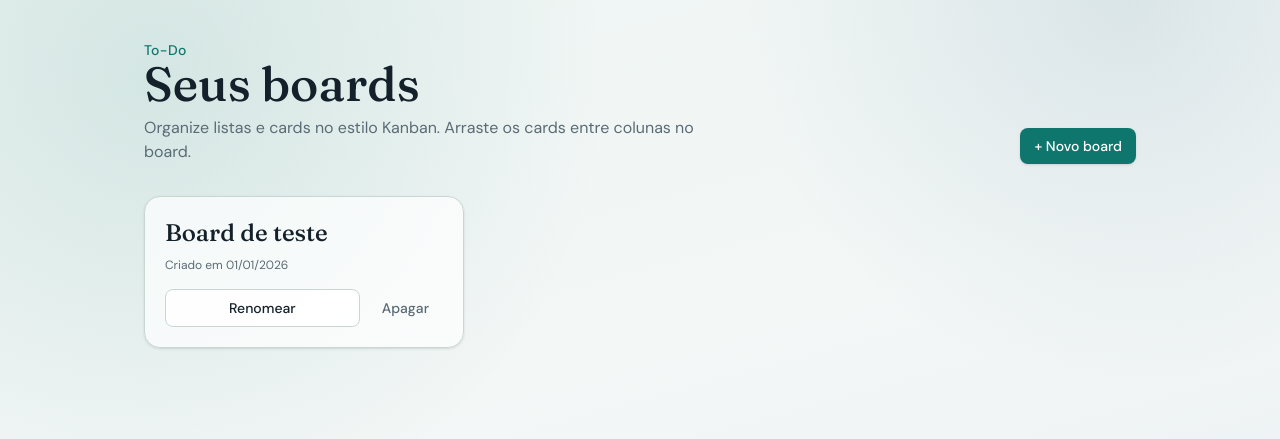
Scenario: BoardsPage › deletes a board after confirm
Check: the heading "Board de teste" is shown, box [165,218,328,247]
What coordinates should you click on to do the following:
click the button "Apagar"
I would click on:
 (405, 308)
Its box is [368,289,443,327].
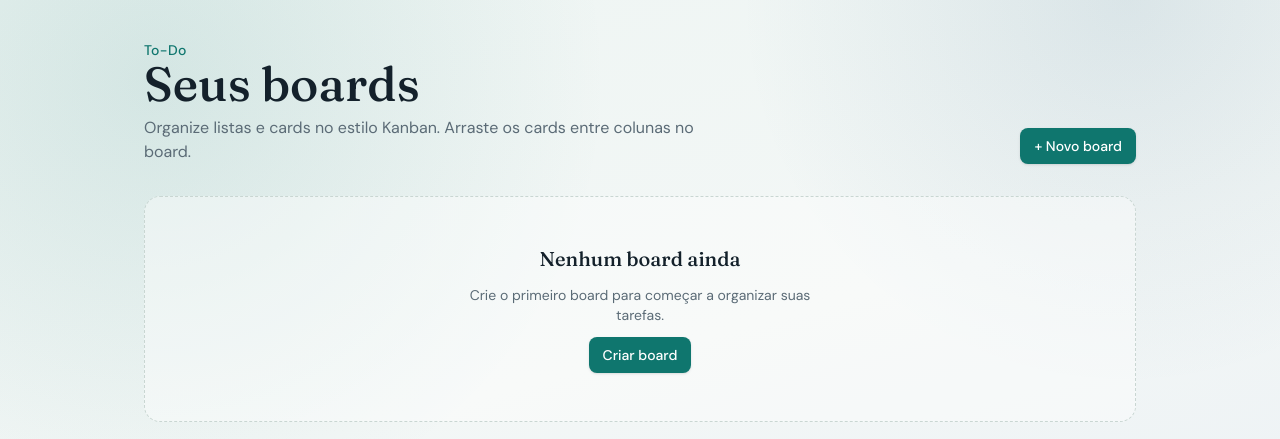
Check: the link "Board de teste" is gone
Check: the heading "Nenhum board ainda" is shown, box [540,245,740,273]
